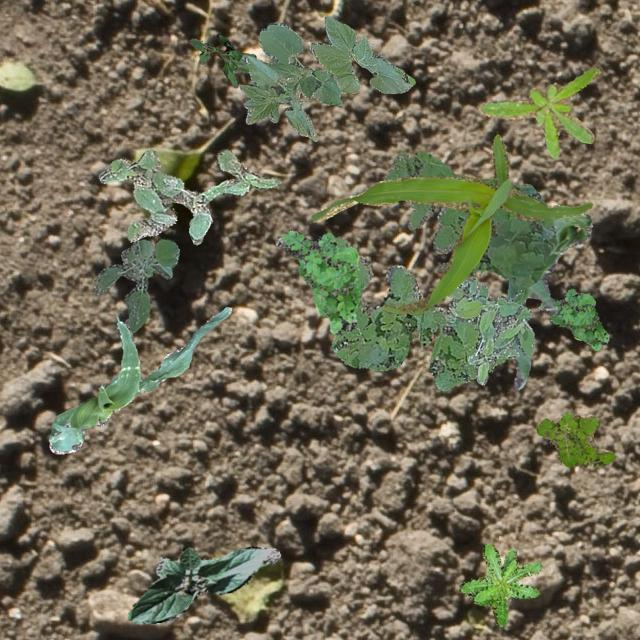crop: (310, 132, 592, 314), (48, 306, 230, 452), (506, 212, 592, 388), (238, 21, 340, 140), (126, 546, 280, 622), (307, 13, 413, 92)
weed: (330, 236, 510, 390), (384, 150, 556, 286), (98, 148, 280, 244), (478, 66, 600, 156), (448, 274, 534, 384), (274, 230, 360, 334), (92, 238, 178, 332), (458, 542, 540, 626), (534, 409, 614, 466), (538, 286, 608, 350), (188, 32, 255, 86)
